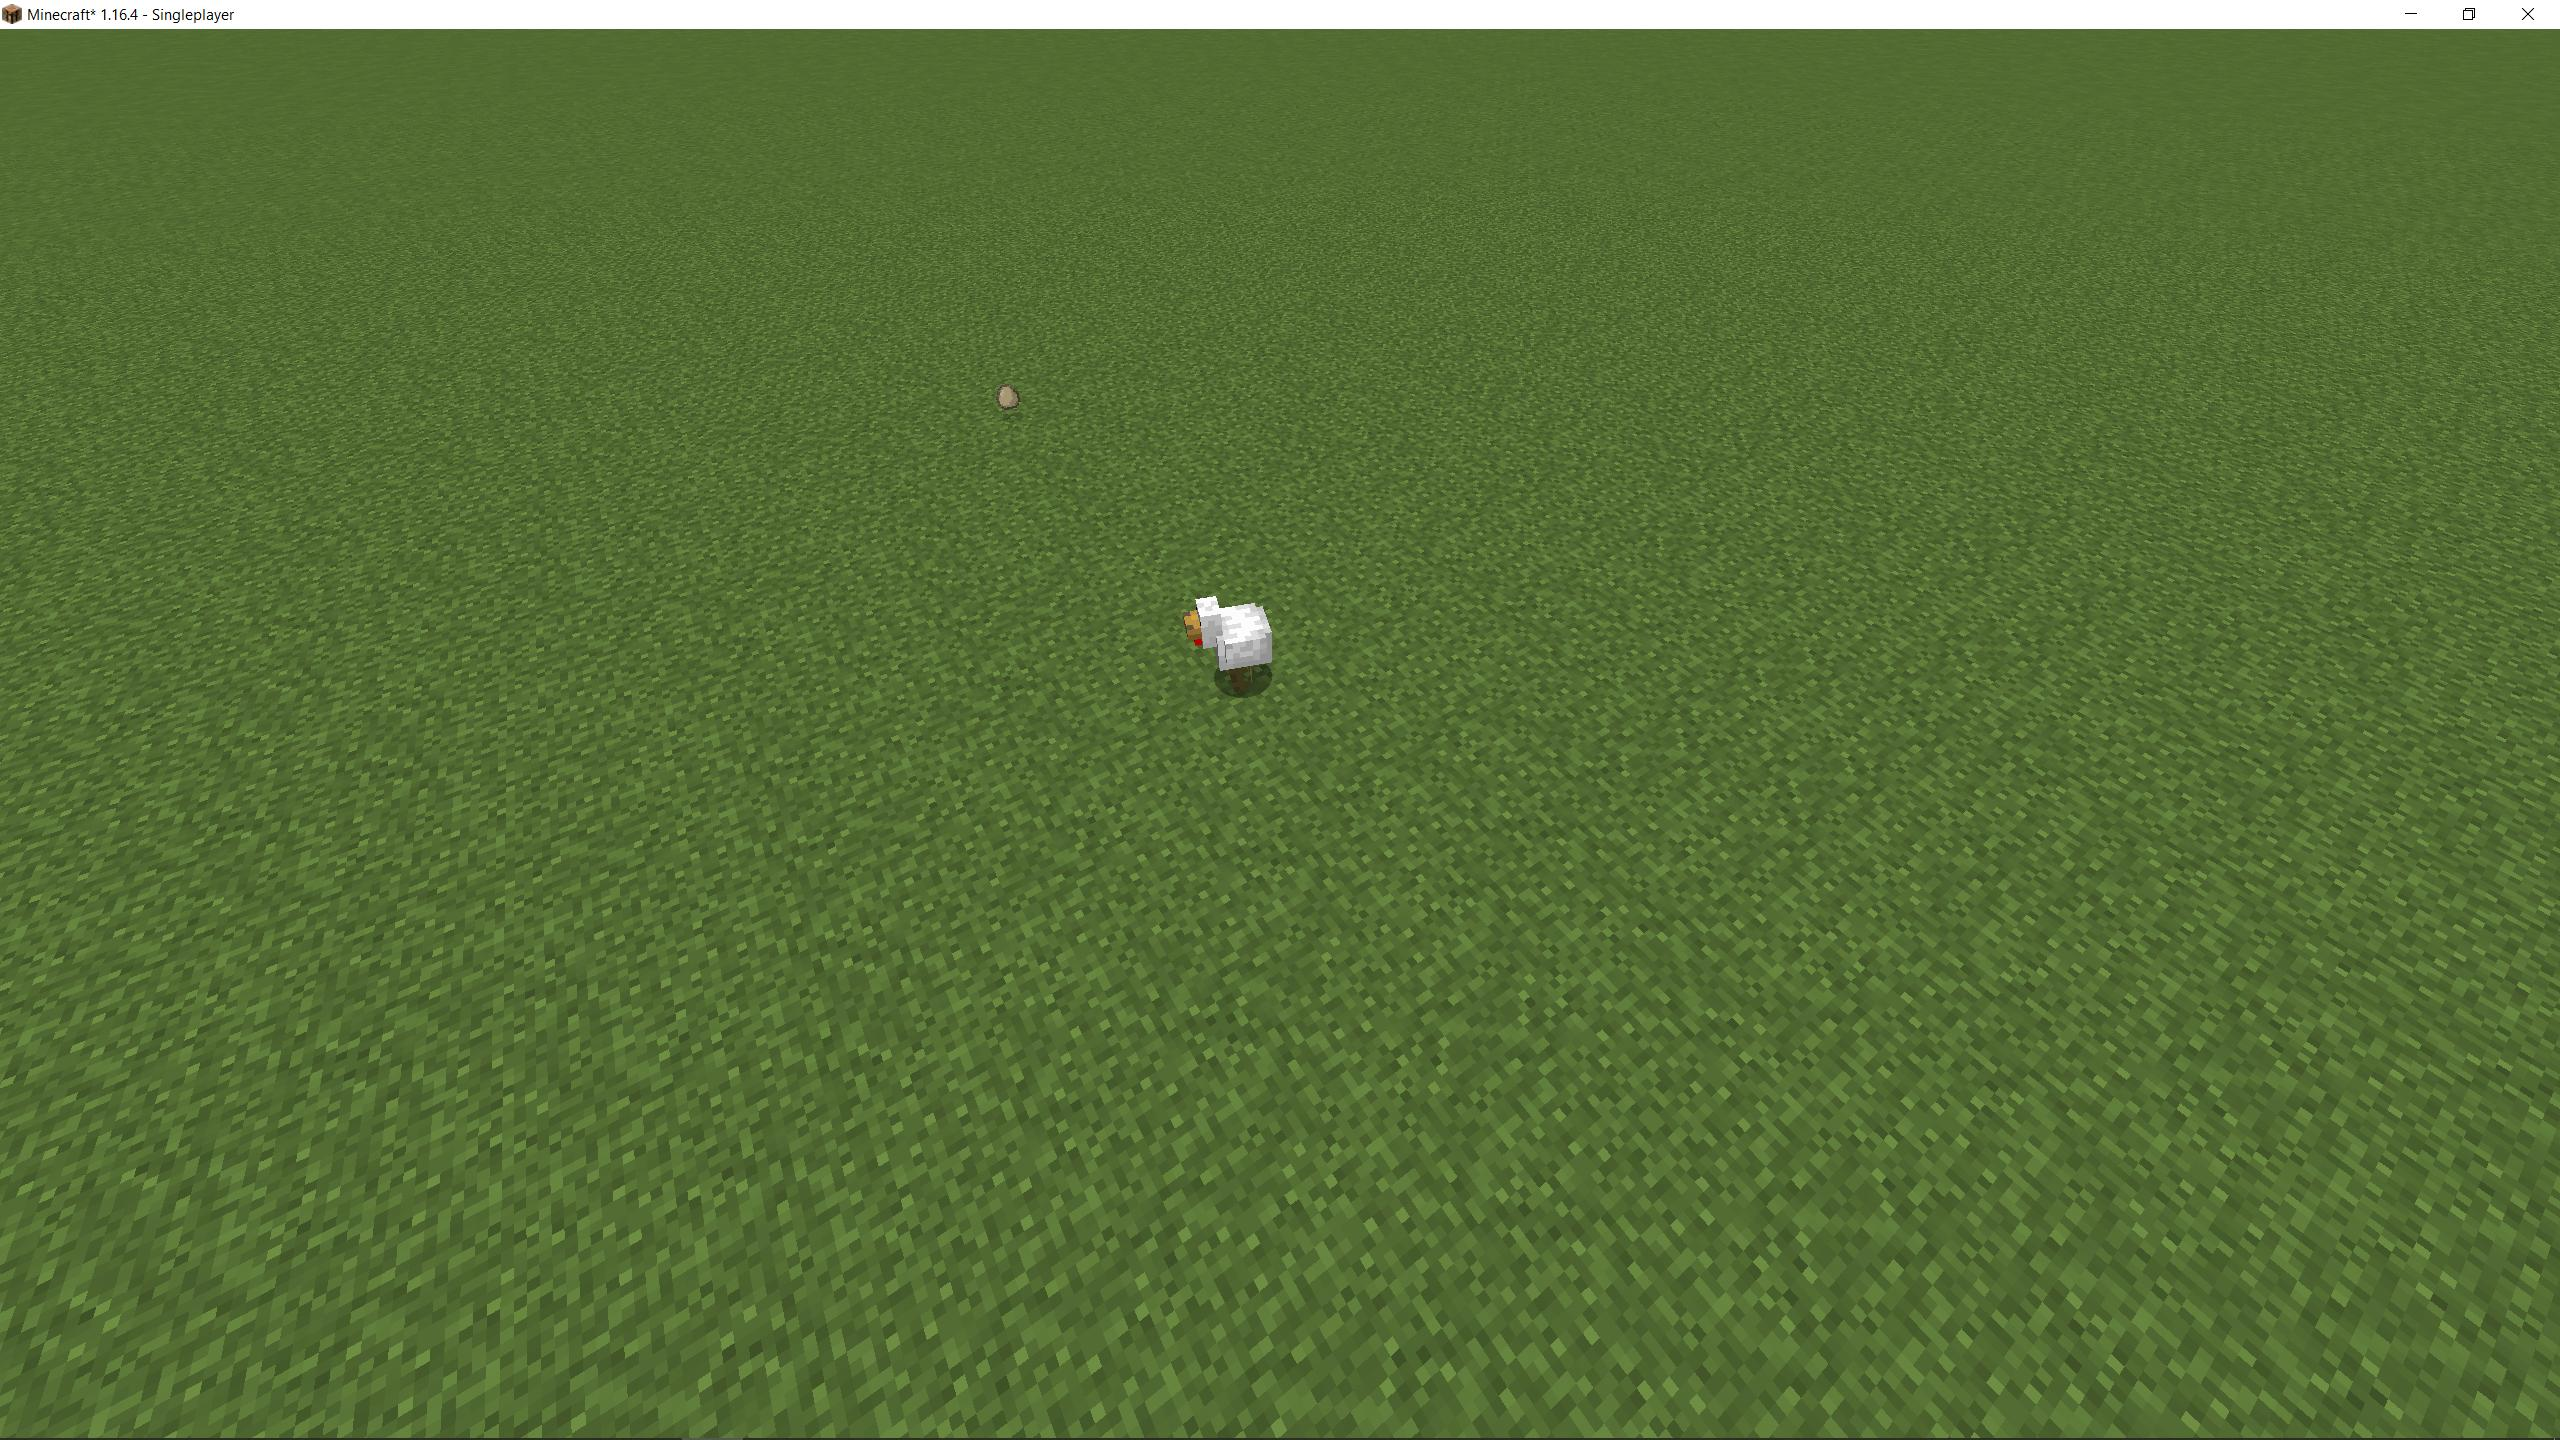chicken: (1180, 587, 1276, 691)
